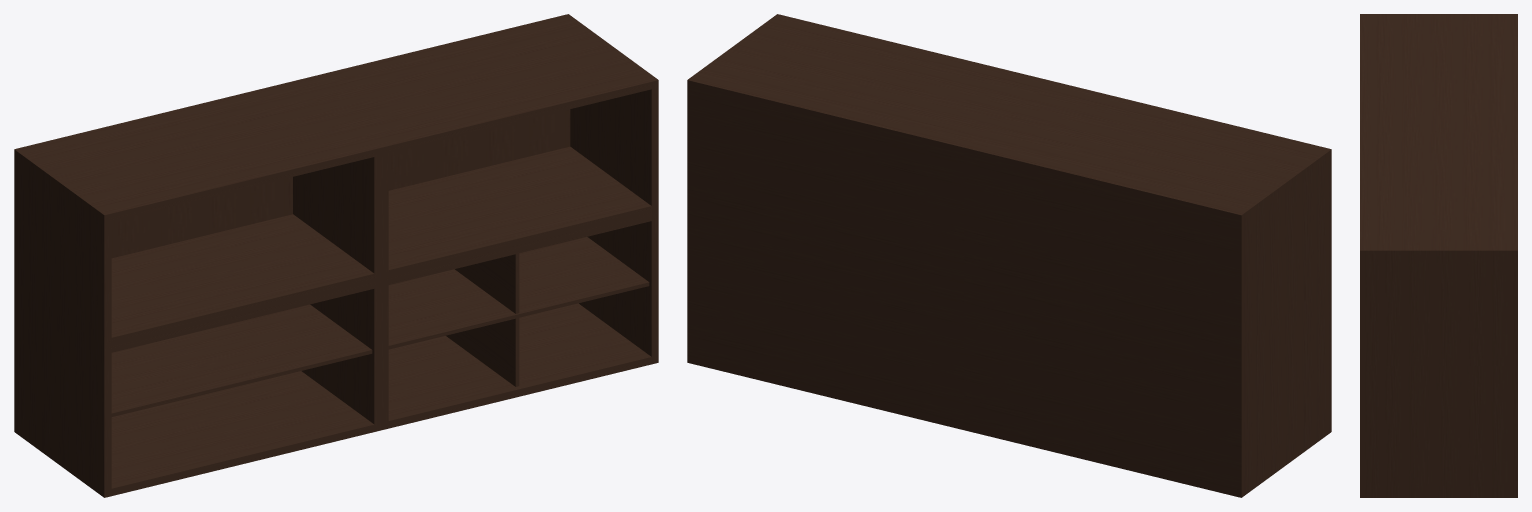
Rendered from Shelving_B.FBX.
3 views of the same model, side by side, from view 1: azimuth 30°, elevation 25°; view 2: azimuth 150°, elevation 25°; view 3: azimuth 270°, elevation 25° (orthographic). The views are drawn at different scales.
Parts seen in each view (by area): view 1: Wall_Shelving; view 2: Wall_Shelving; view 3: Wall_Shelving.
Part boxes in pixels (bbox=[...]): Wall_Shelving: bbox=[14, 14, 658, 497]; Wall_Shelving: bbox=[687, 14, 1331, 497]; Wall_Shelving: bbox=[1360, 14, 1517, 497].
Size of the model in its own units: 390 by 190 by 110.
